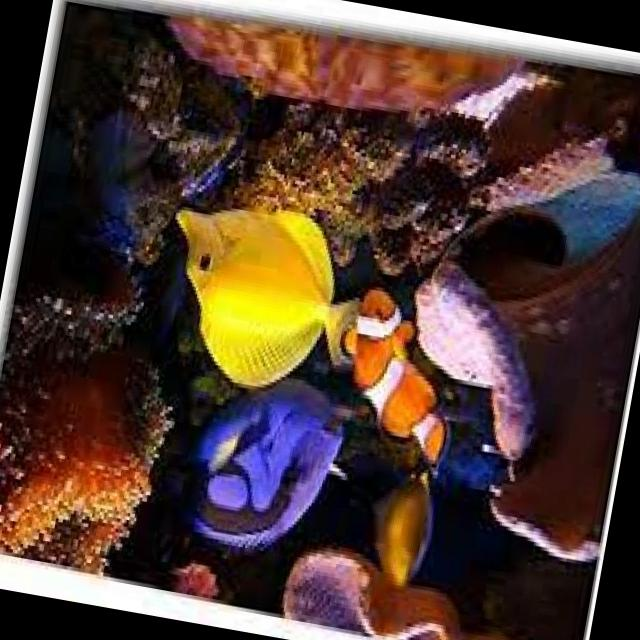YellowTang: (133, 169, 371, 412)
